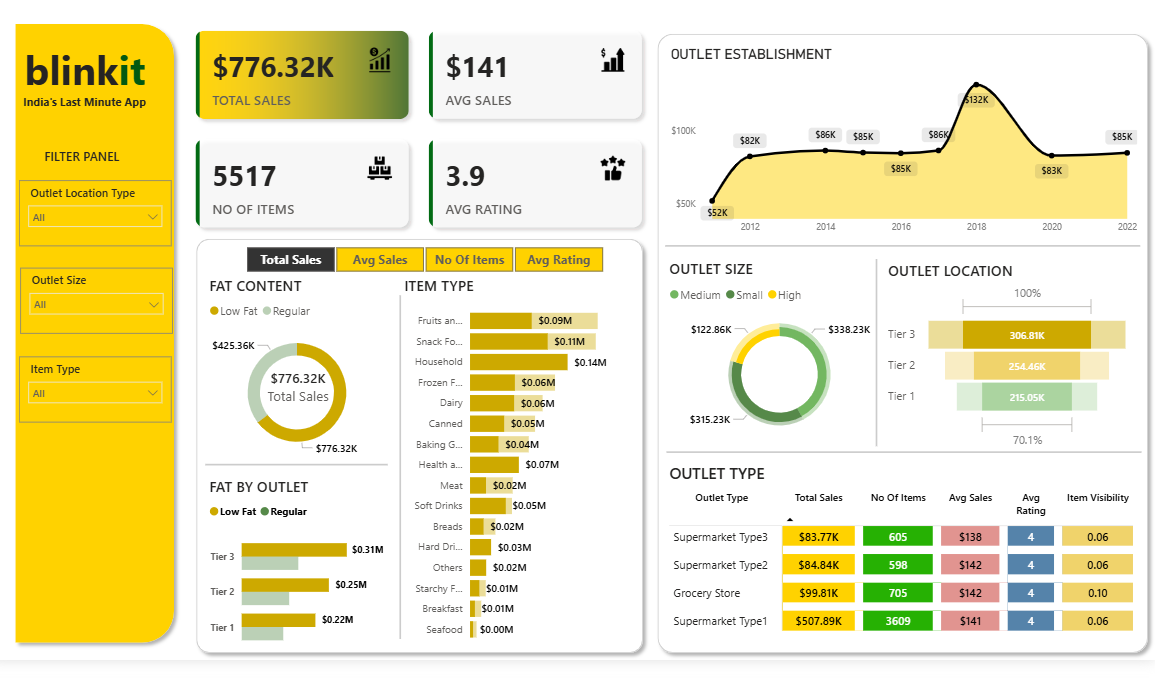

This screenshot's page, from the dashboard's own definition file:
{"tool":"powerbi","page":{"name":"Page 1","canvas":[1400,800],"ordinal":0},"visuals":[{"type":"shape","box":[22.5,27,208.6,760.9],"z":0},{"type":"textbox","box":[37.5,52.5,171.1,76.5],"z":1000},{"type":"textbox","box":[36,115.6,171.1,28.5],"z":2000},{"type":"cardVisual","fields":{"Data":["BlinkIT Grocery Data.Total Sales","BlinkIT Grocery Data.Avg Sales","BlinkIT Grocery Data.No Of Items","BlinkIT Grocery Data.Avd Rating"]},"box":[231.1,27,570.3,270.2],"z":3000},{"type":"shape","box":[240.1,285.2,553.8,514.8],"z":4000},{"type":"donutChart","title":"FAT CONTENT","fields":{"Y":["BlinkIT Grocery Data.Total Sales"],"Category":["BlinkIT Grocery Data.Item Fat Content"]},"box":[259.6,337.7,220.6,229.6],"z":5000},{"type":"slicer","fields":{"Values":["Metrics.Metrics"]},"box":[283.7,297.2,477.3,40.5],"z":6000},{"type":"cardVisual","fields":{"Data":["BlinkIT Grocery Data.Total Sales"]},"box":[315.2,432.2,112.6,70.5],"z":7000},{"type":"clusteredBarChart","title":"FAT BY OUTLET","fields":{"Y":["BlinkIT Grocery Data.Total Sales"],"Category":["BlinkIT Grocery Data.Outlet Location Type"],"Series":["BlinkIT Grocery Data.Item Fat Content"]},"box":[259.6,579.3,219.1,220.6],"z":8000},{"type":"shape","box":[259.6,550.8,219.1,28.5],"z":9000},{"type":"shape","box":[478.8,361.7,30,412.7],"z":10000},{"type":"barChart","title":"ITEM TYPE","fields":{"Y":["BlinkIT Grocery Data.Total Sales"],"Category":["BlinkIT Grocery Data.Item Type"]},"box":[493.8,337.7,283.7,450.3],"z":11000},{"type":"shape","box":[794,39,606.3,760.9],"z":12000},{"type":"lineChart","title":"OUTLET ESTABLISHMENT","fields":{"Y":["BlinkIT Grocery Data.Total Sales"],"Category":["BlinkIT Grocery Data.Outlet Establishment Year"]},"box":[813.5,61.5,570.3,235.6],"z":13000},{"type":"shape","box":[812,285.2,570.3,34.5],"z":13001},{"type":"donutChart","title":"OUTLET SIZE","fields":{"Y":["BlinkIT Grocery Data.Total Sales"],"Category":["BlinkIT Grocery Data.Outlet Size"]},"box":[812,318.2,274.7,225.1],"z":13002},{"type":"shape","box":[1056.6,318.2,18,225.1],"z":13003},{"type":"funnel","title":"OUTLET LOCATION","fields":{"Y":["Sum(BlinkIT Grocery Data.Sales)"],"Category":["BlinkIT Grocery Data.Outlet Location Type"]},"box":[1074.6,319.7,300.2,231.1],"z":13004},{"type":"shape","box":[813.5,532.8,570.3,34.5],"z":13005},{"type":"pivotTable","title":"OUTLET TYPE","fields":{"Rows":["BlinkIT Grocery Data.Outlet Type"],"Values":["BlinkIT Grocery Data.Total Sales","BlinkIT Grocery Data.No Of Items","BlinkIT Grocery Data.Avg Sales","BlinkIT Grocery Data.Avg Rating","Avg(BlinkIT Grocery Data.Item Visibility)"]},"box":[812,562.8,570.3,225.1],"z":13006},{"type":"slicer","fields":{"Values":["BlinkIT Grocery Data.Outlet Location Type"]},"box":[36,223.6,183.1,79.5],"z":13007},{"type":"slicer","fields":{"Values":["BlinkIT Grocery Data.Outlet Size"]},"box":[37.5,328.7,183.1,79.5],"z":13008},{"type":"slicer","fields":{"Values":["BlinkIT Grocery Data.Item Type"]},"box":[36,435.3,183.1,79.5],"z":13009},{"type":"textbox","box":[61.5,180.1,118.6,31.5],"z":13010}]}

Visuals, with their boxes on the page's 1400x800 design canvas (x1, y1, x2, y2). These are canvas units, not pixel positions in the 1155x687 screenshot, which may show the page scaled, cropped or inside an application window:
shape: crop(22, 27, 231, 788)
textbox: crop(38, 52, 209, 129)
textbox: crop(36, 116, 207, 144)
cardVisual - BlinkIT Grocery Data.Total Sales x BlinkIT Grocery Data.Avg Sales: crop(231, 27, 801, 297)
shape: crop(240, 285, 794, 800)
"FAT CONTENT" donutChart: crop(260, 338, 480, 567)
slicer - Metrics.Metrics: crop(284, 297, 761, 338)
cardVisual - BlinkIT Grocery Data.Total Sales: crop(315, 432, 428, 503)
"FAT BY OUTLET" clusteredBarChart: crop(260, 579, 479, 800)
shape: crop(260, 551, 479, 579)
shape: crop(479, 362, 509, 774)
"ITEM TYPE" barChart: crop(494, 338, 778, 788)
shape: crop(794, 39, 1400, 800)
"OUTLET ESTABLISHMENT" lineChart: crop(814, 62, 1384, 297)
shape: crop(812, 285, 1382, 320)
"OUTLET SIZE" donutChart: crop(812, 318, 1087, 543)
shape: crop(1057, 318, 1075, 543)
"OUTLET LOCATION" funnel: crop(1075, 320, 1375, 551)
shape: crop(814, 533, 1384, 567)
"OUTLET TYPE" pivotTable: crop(812, 563, 1382, 788)
slicer - BlinkIT Grocery Data.Outlet Location Type: crop(36, 224, 219, 303)
slicer - BlinkIT Grocery Data.Outlet Size: crop(38, 329, 221, 408)
slicer - BlinkIT Grocery Data.Item Type: crop(36, 435, 219, 515)
textbox: crop(62, 180, 180, 212)
